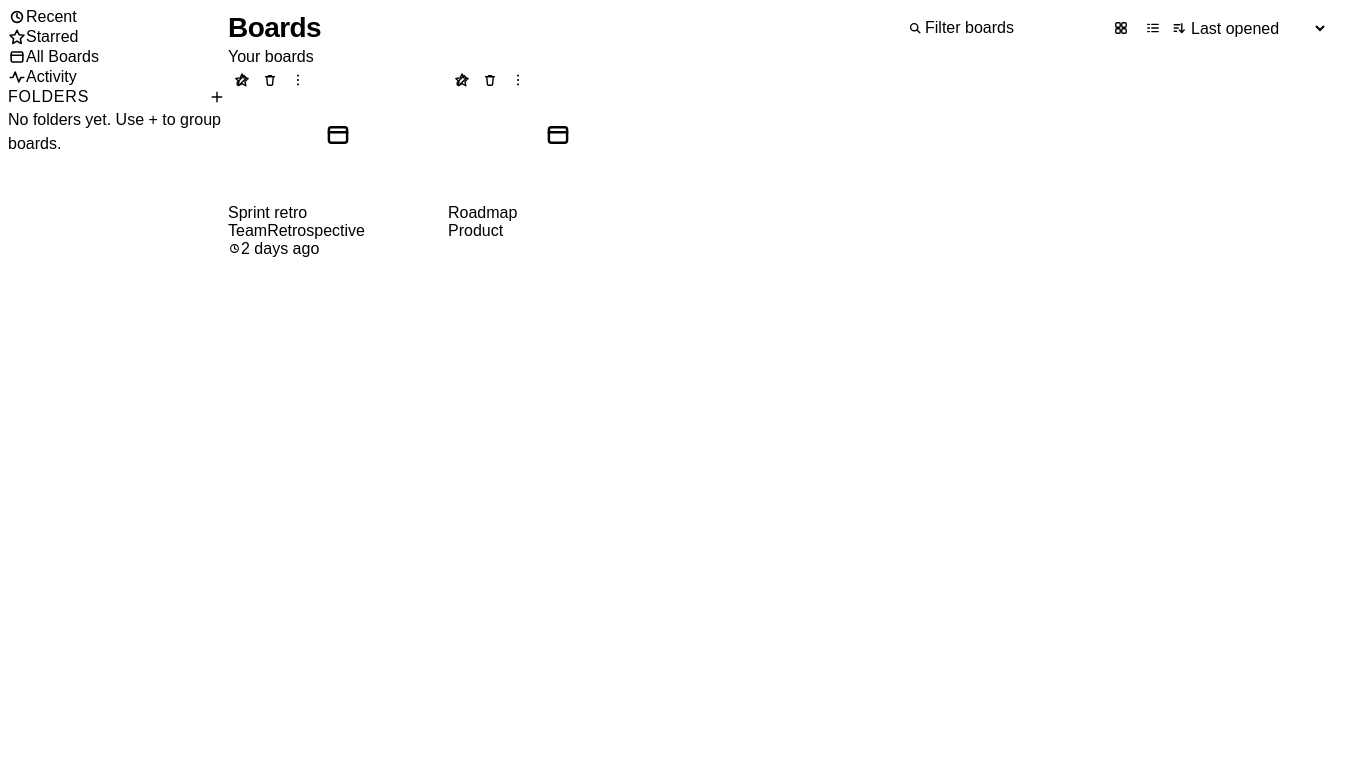
filter ergonomics and content search › clears the filter with its clear button and with Escape
Type "road" into the search field labelled "Filter boards". click: (1013, 28)
box: [923, 18, 1103, 38]
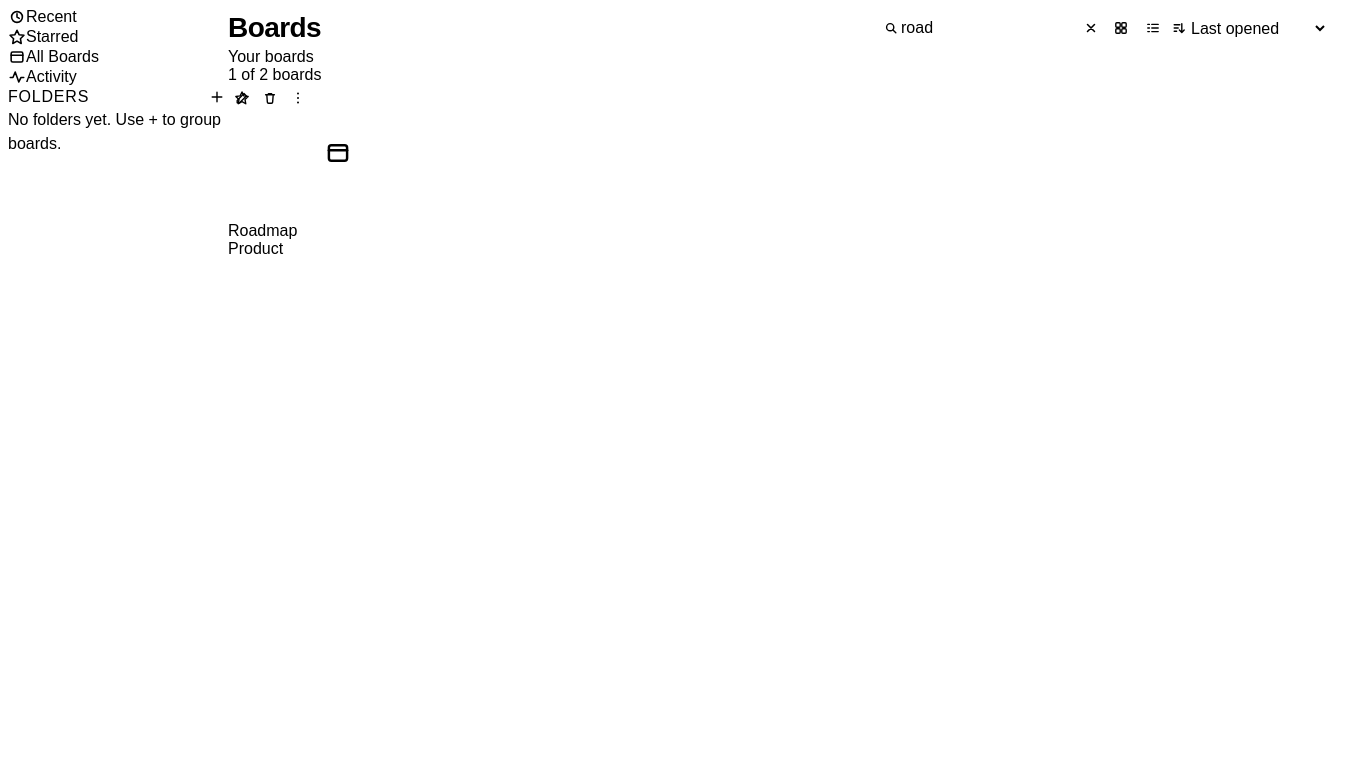
Now the text "Sprint retro" is gone
Click the button named "Clear filter". click: (1091, 28)
box: [1079, 16, 1103, 40]
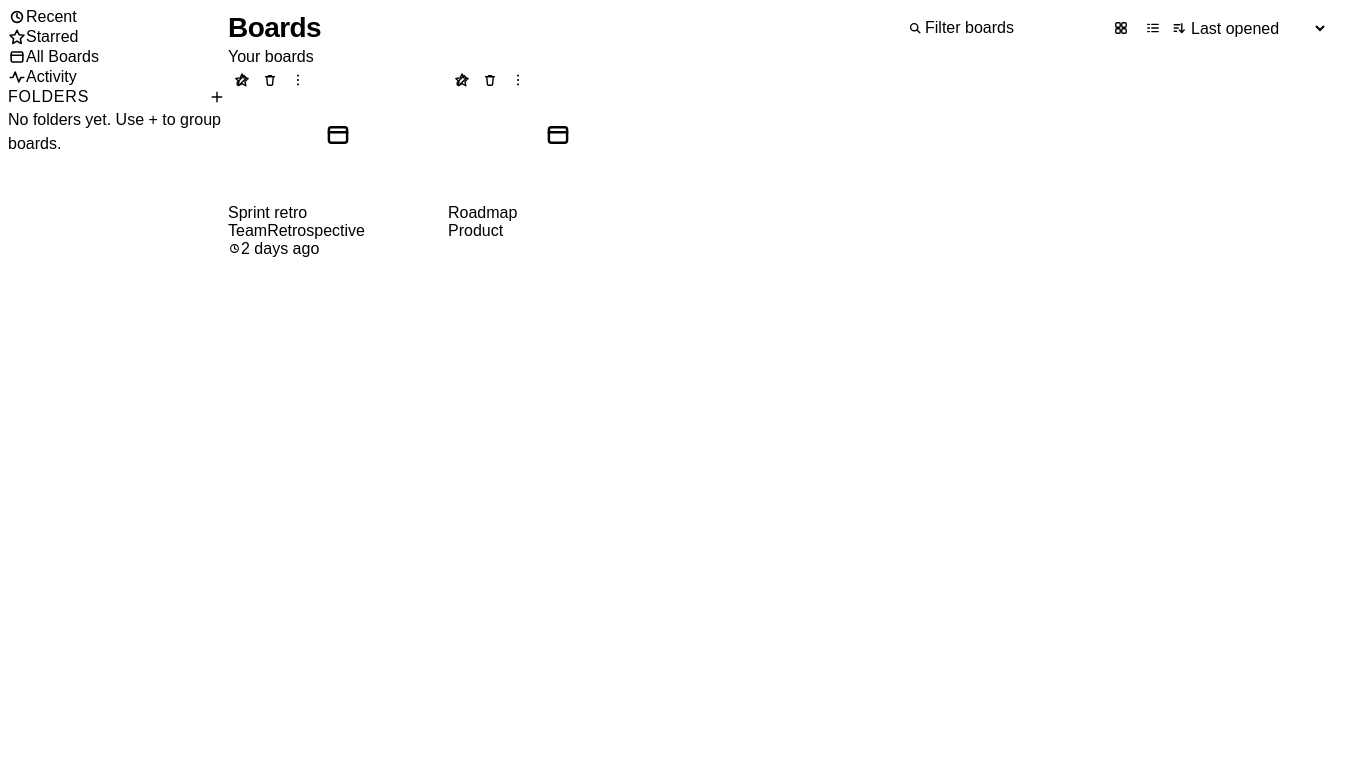
Now the text "Sprint retro" is shown, box [228, 204, 307, 220]
Type "road" into the search field labelled "Filter boards". click: (1013, 28)
box: [923, 18, 1103, 38]
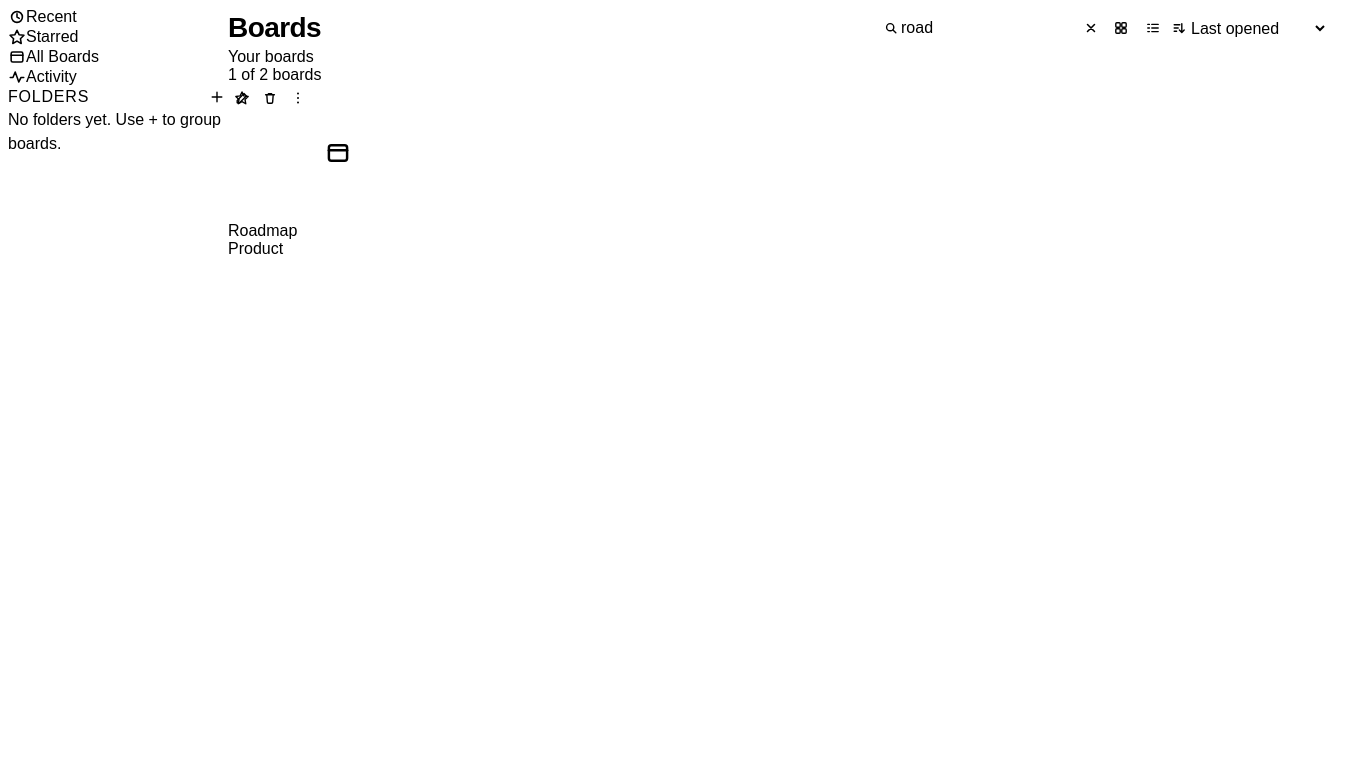
Press Escape in the search field named "Filter boards", box [899, 18, 1079, 38]
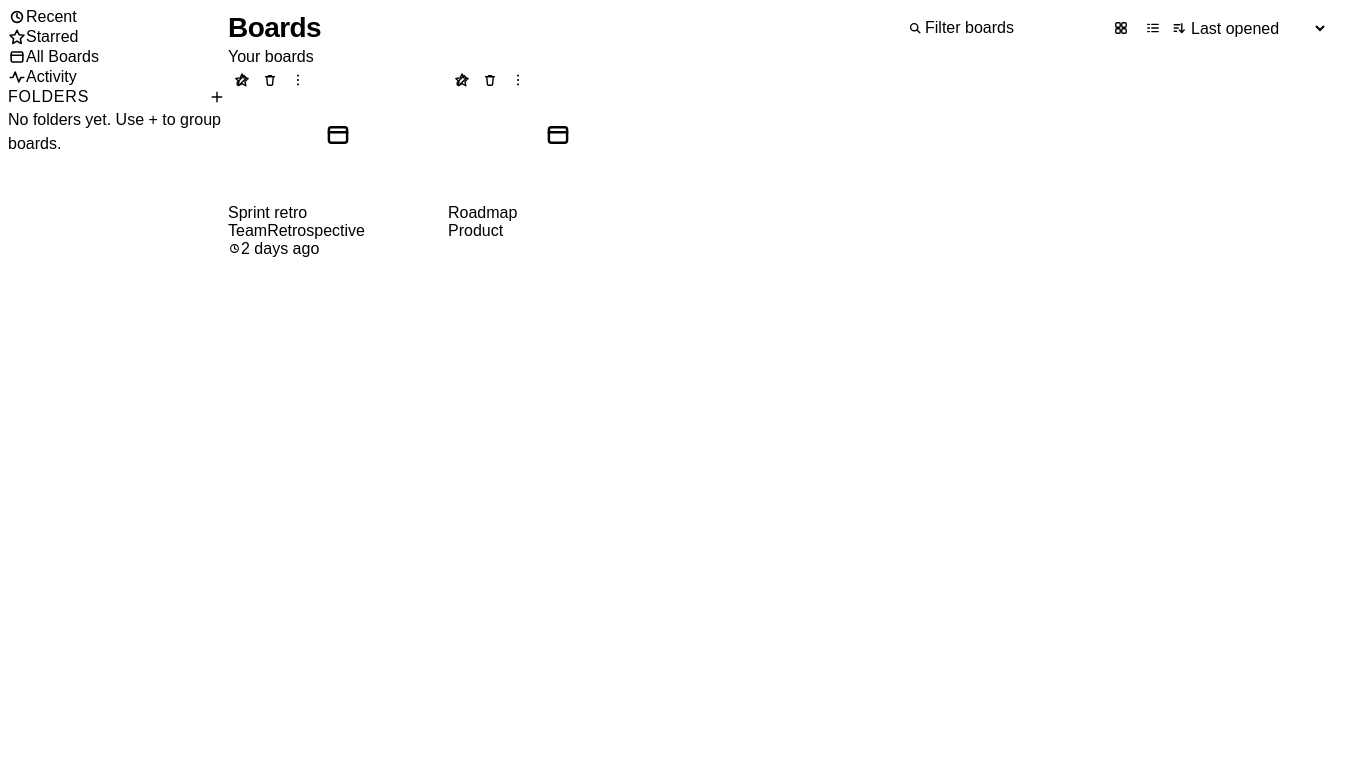
Now the text "Sprint retro" is shown, box [228, 204, 307, 220]
